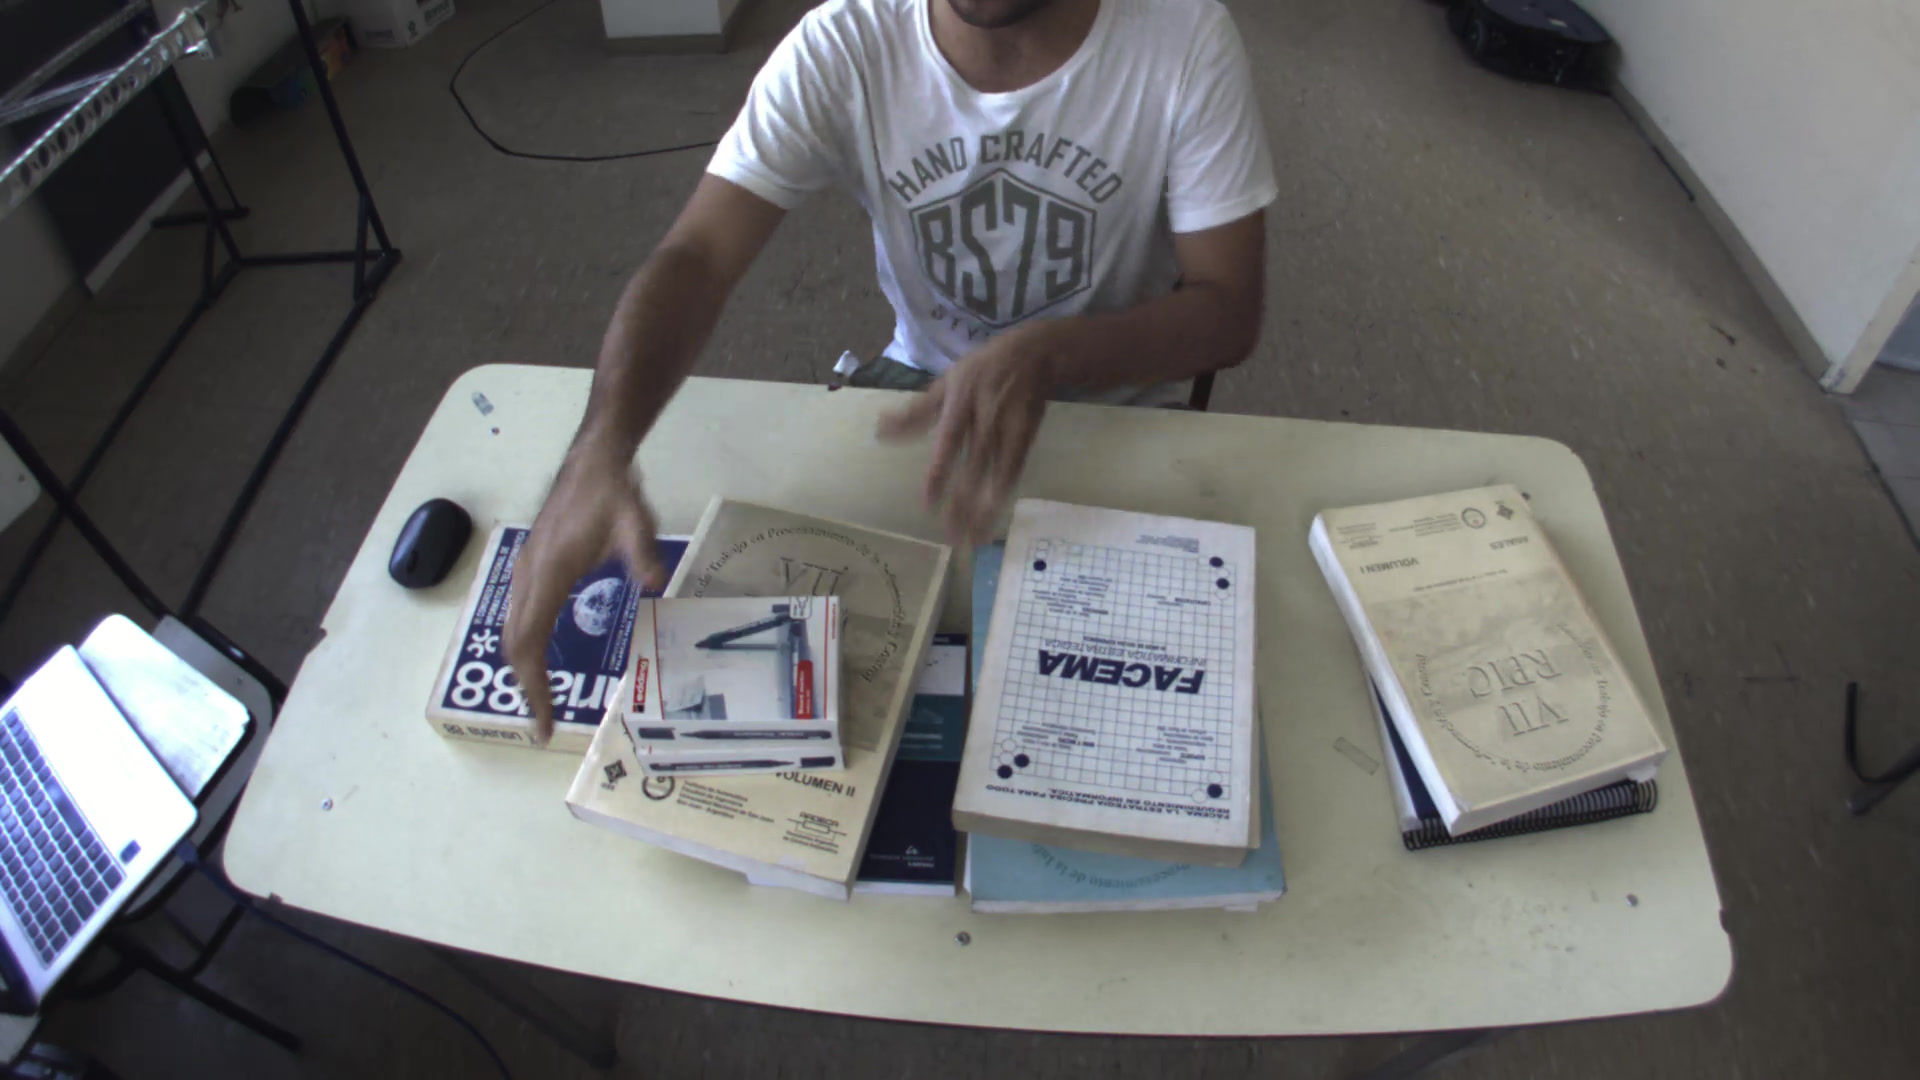hand: (489, 446, 667, 752), (895, 349, 1040, 533)
